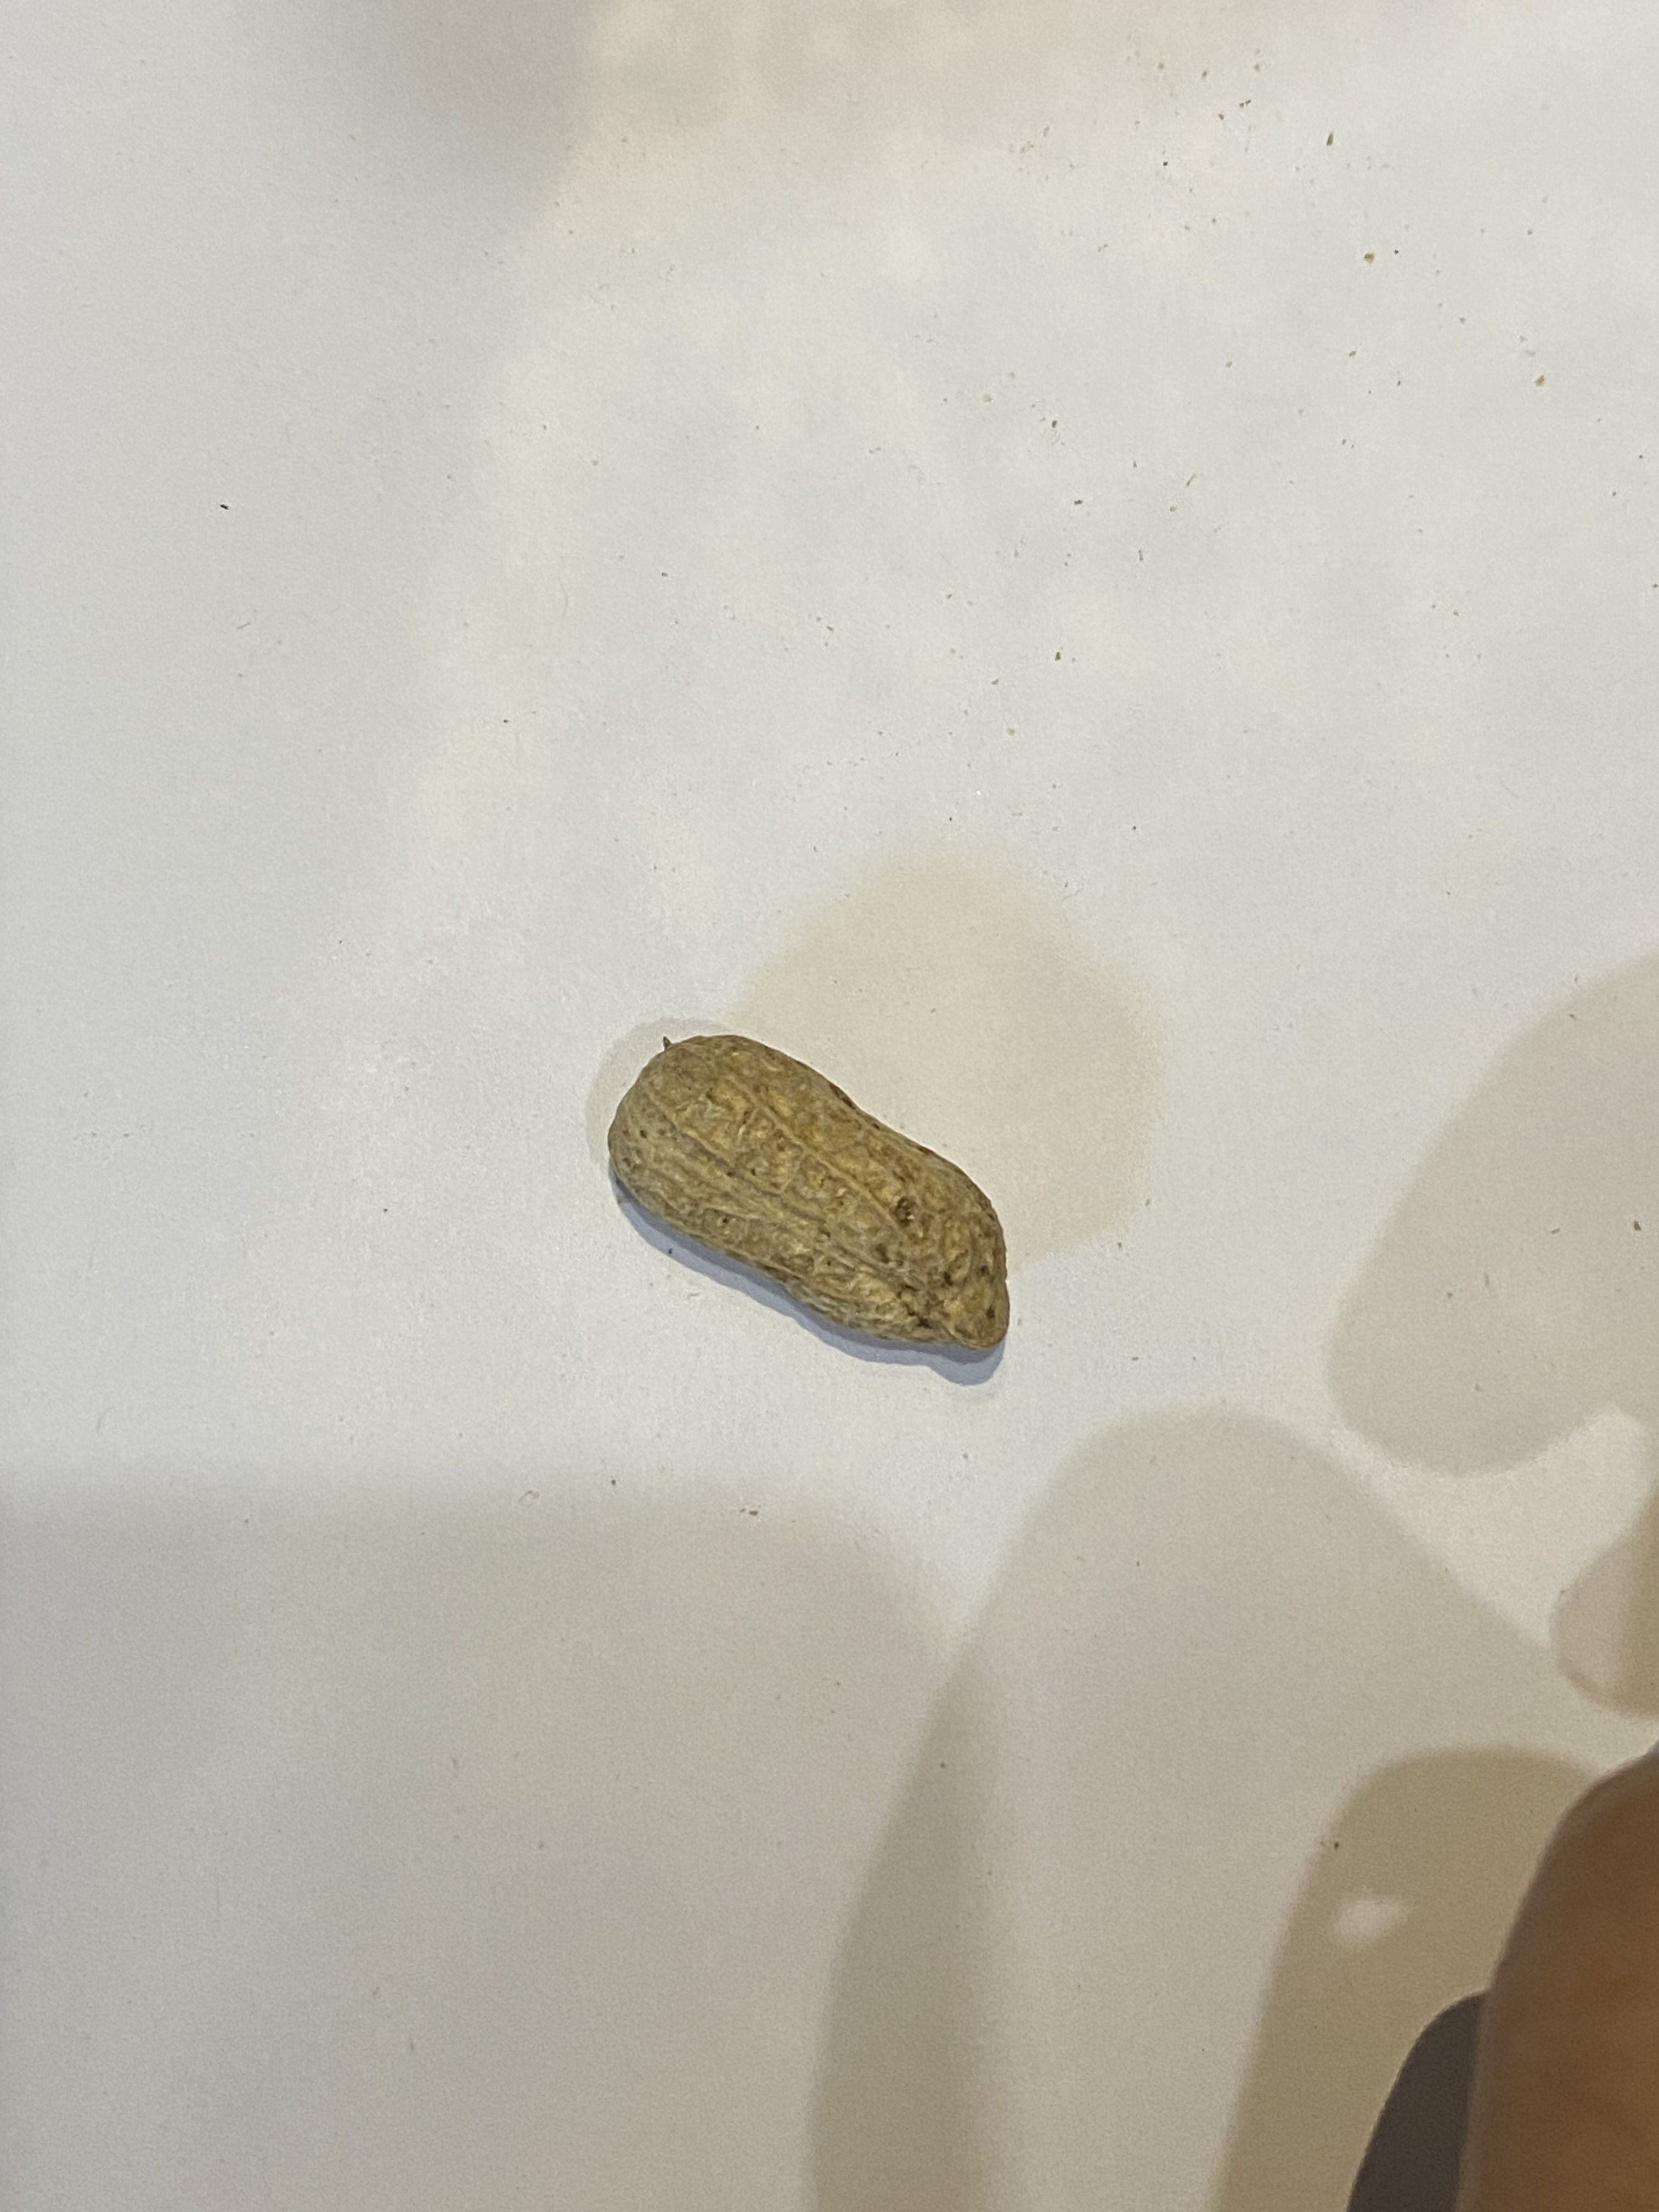kacang2: (587, 1010, 1040, 1386)
